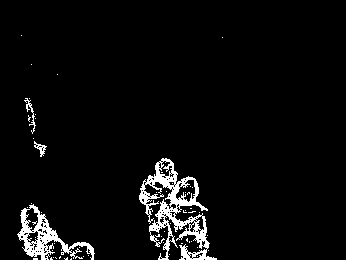person: (145, 151, 175, 251)
